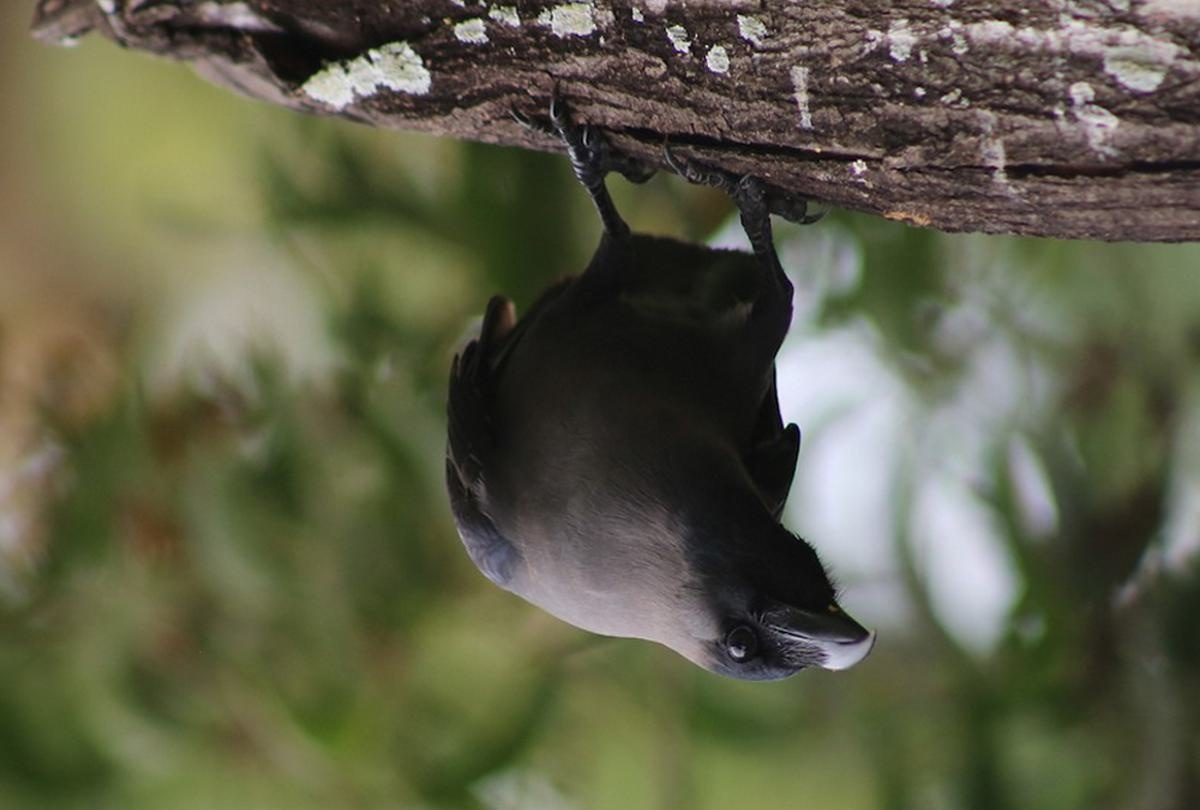crow: (417, 169, 905, 696)
